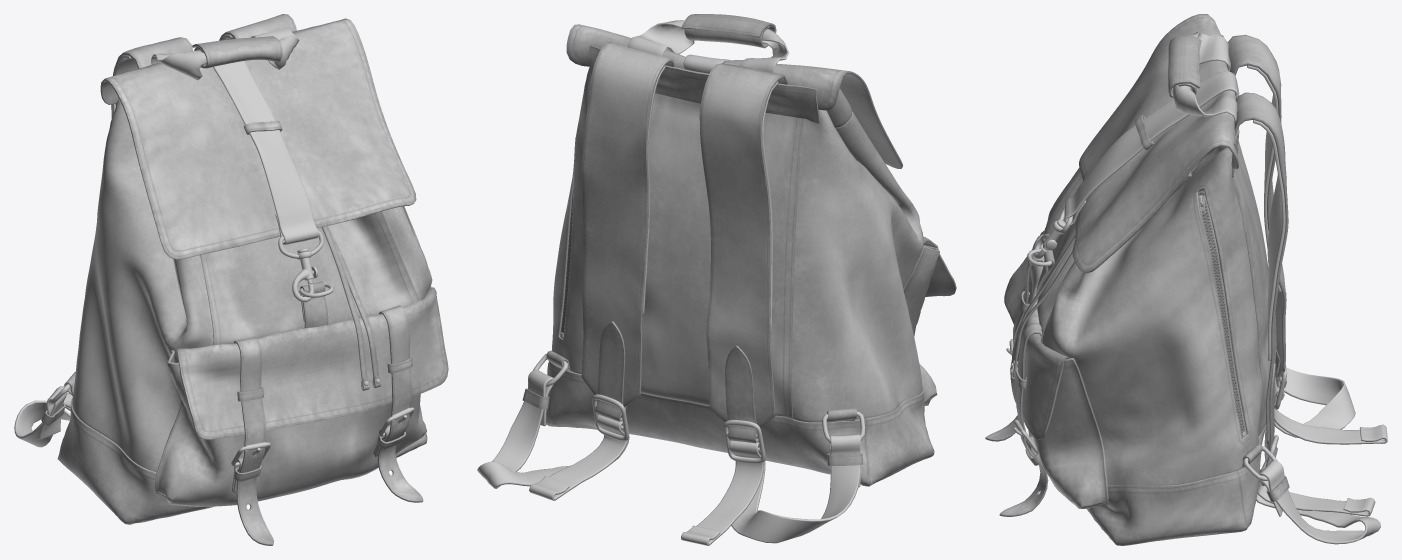
Rendered from backpack.gltf.
3 views of the same model, side by side, from view 1: azimuth 30°, elevation 25°; view 2: azimuth 150°, elevation 25°; view 3: azimuth 270°, elevation 25° (orthographic). The views are drawn at different scales.
Visible parts, largest first — view 1: Back_pack_001; view 2: Back_pack_001; view 3: Back_pack_001.
Part boxes in pixels (x1,y1,x2,y2): Back_pack_001: (14,14,448,545); Back_pack_001: (477,14,956,545); Back_pack_001: (985,14,1387,545).
Size of the model in its own units: 0.389 by 0.4762 by 0.4154.
